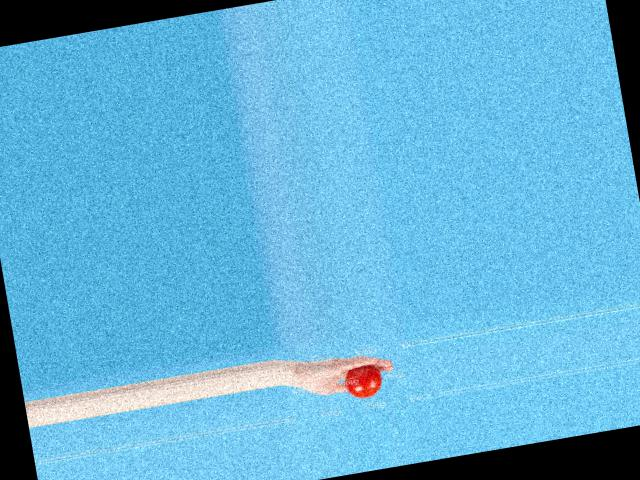tomato: (342, 363, 384, 400)
